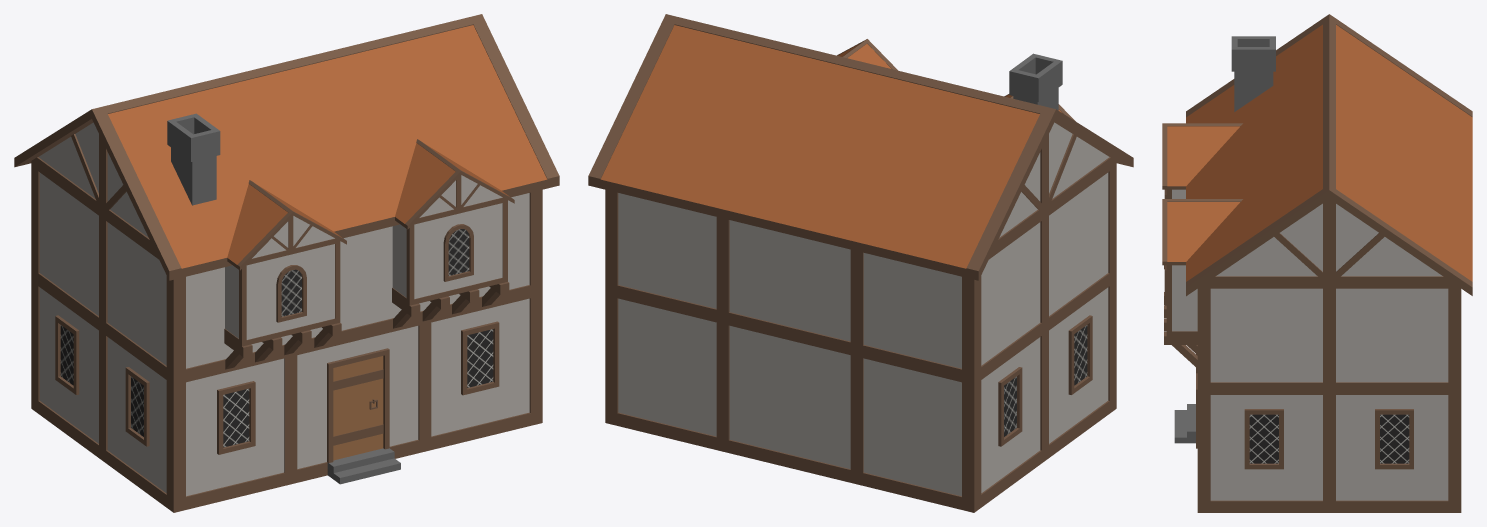
The model's file is SPW_Medieval_Bldg_04.glb.
3 views of the same model, side by side, from view 1: azimuth 30°, elevation 25°; view 2: azimuth 150°, elevation 25°; view 3: azimuth 270°, elevation 25° (orthographic). The views are drawn at different scales.
Visible parts, largest first — view 1: SPW_Medieval_Bldg_04; view 2: SPW_Medieval_Bldg_04; view 3: SPW_Medieval_Bldg_04.
Part boxes in pixels (x1,y1,x2,y2): SPW_Medieval_Bldg_04: [14, 14, 559, 512]; SPW_Medieval_Bldg_04: [588, 14, 1133, 512]; SPW_Medieval_Bldg_04: [1162, 14, 1472, 512].
Bounding box in the file's own units: 6.4 × 5.55 × 4.77.
Materials: 1 (1 with a texture image).
